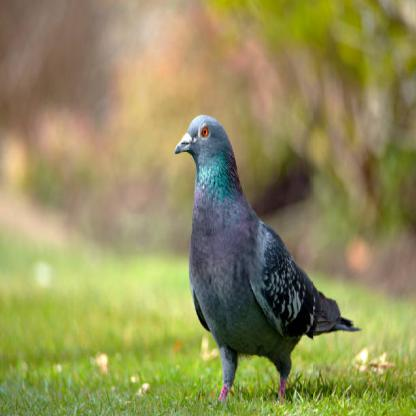Flying Rat: (164, 119, 355, 407)
